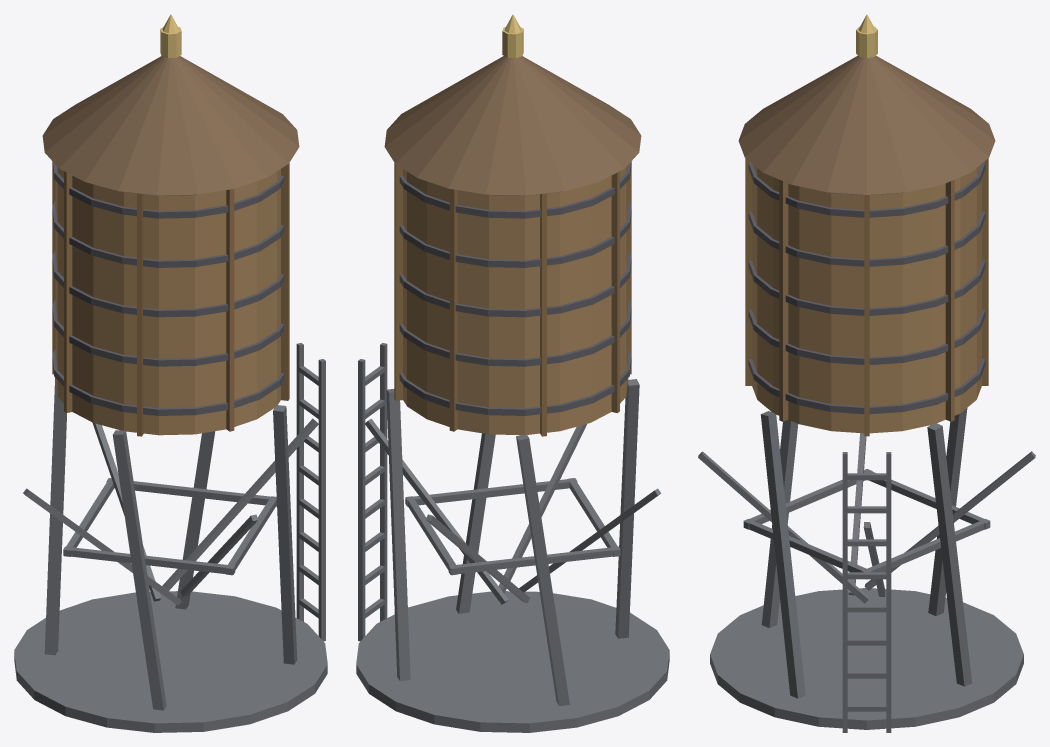
The model's file is rooftop_water_tower.fbx.
3 renders of one model, left to right at view 1: azimuth 30°, elevation 25°; view 2: azimuth 150°, elevation 25°; view 3: azimuth 270°, elevation 25°, orthographic.
Parts seen in each view (by area): view 1: rooftop_water_tower; view 2: rooftop_water_tower; view 3: rooftop_water_tower.
Boxes of the visible parts, x1,y1,x2,y2 form: rooftop_water_tower: (14, 14, 327, 732); rooftop_water_tower: (356, 14, 669, 732); rooftop_water_tower: (698, 14, 1035, 732).
Size of the model in its own units: 773 by 1642 by 773.
